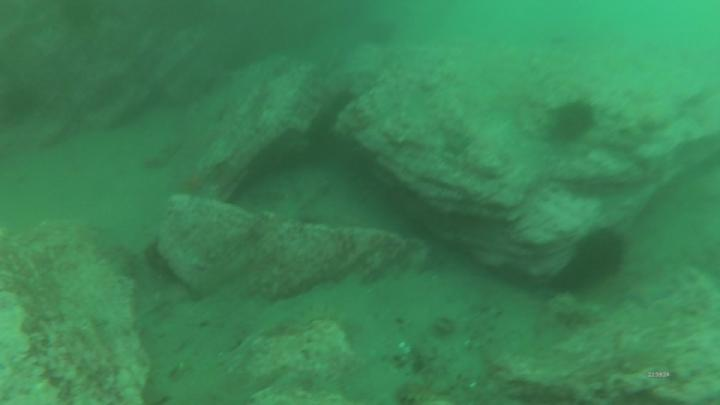echinus: (583, 234, 624, 279), (551, 104, 592, 145)
holothurian: (548, 290, 607, 330), (396, 385, 456, 405)
starfish: (627, 282, 669, 308), (174, 172, 205, 195)
